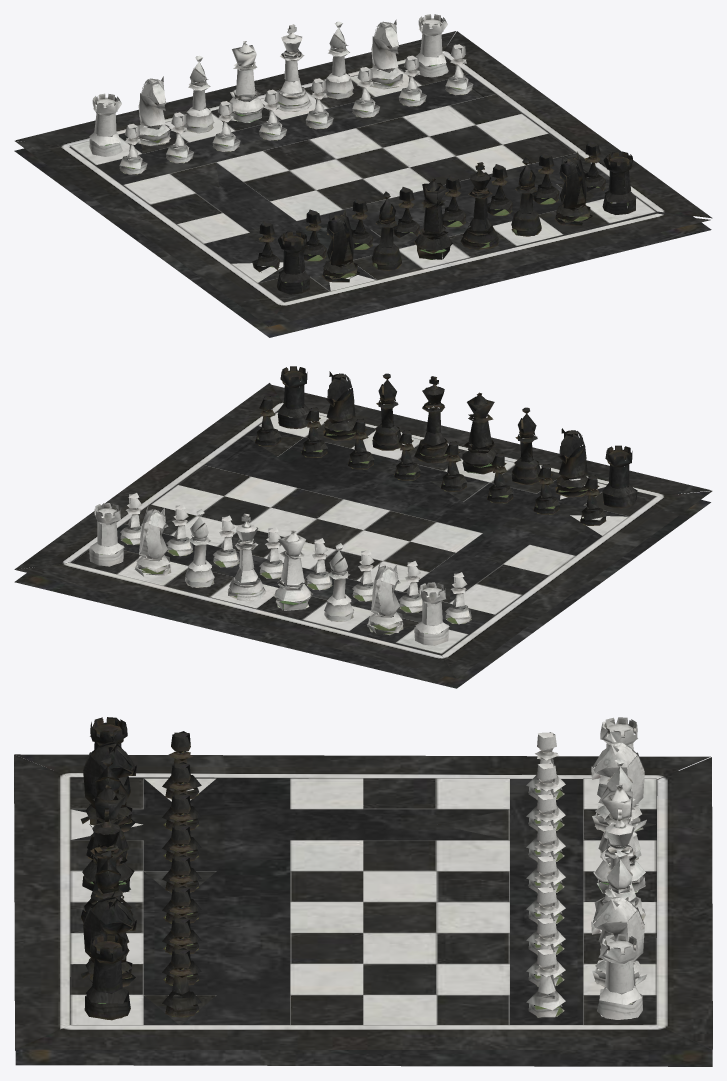
File: chess_set.glb
3 renders of one model, top to bottom at view 1: azimuth 30°, elevation 25°; view 2: azimuth 150°, elevation 25°; view 3: azimuth 270°, elevation 25°, orthographic. The views are drawn at different scales.
Parts seen in each view (by area): view 1: piece_rook_white_01; view 2: piece_rook_white_01; view 3: piece_rook_white_01.
Part boxes in pixels (left/top/right/bottom): piece_rook_white_01: left=14, top=14, right=712, bottom=337; piece_rook_white_01: left=14, top=366, right=712, bottom=688; piece_rook_white_01: left=14, top=717, right=712, bottom=1066.
Bounding box in the file's own units: 0.5528 × 0.1087 × 0.5522.
Materials: 3 (3 with a texture image).
